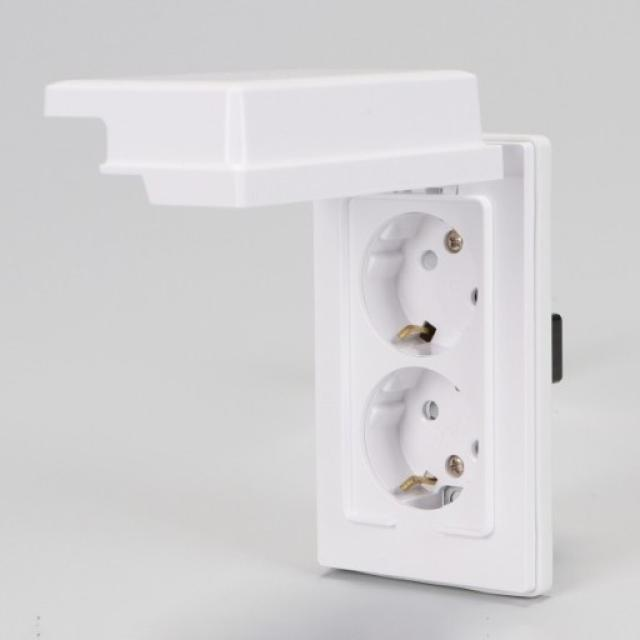typeb: (26, 57, 566, 598)
